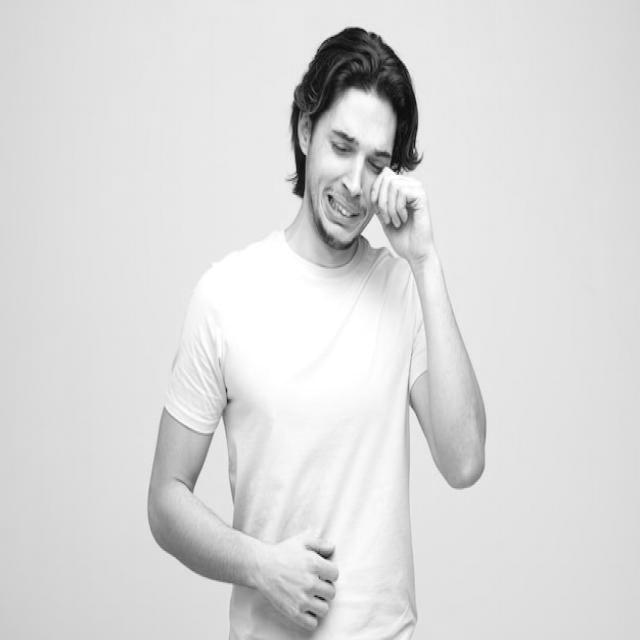real: (291, 73, 399, 251), (324, 120, 396, 176)
